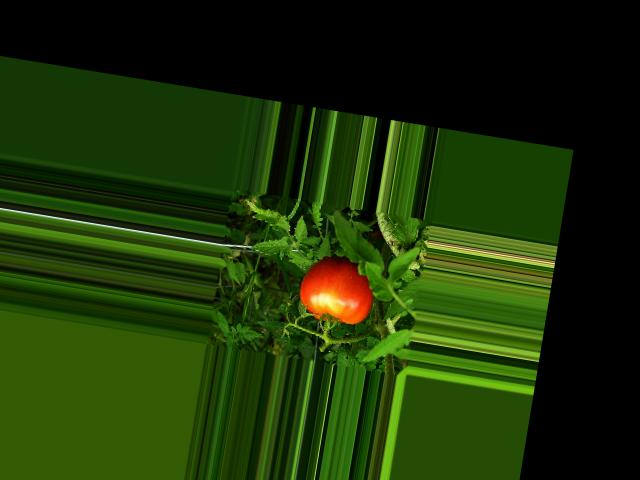tomato: (296, 252, 378, 328)
